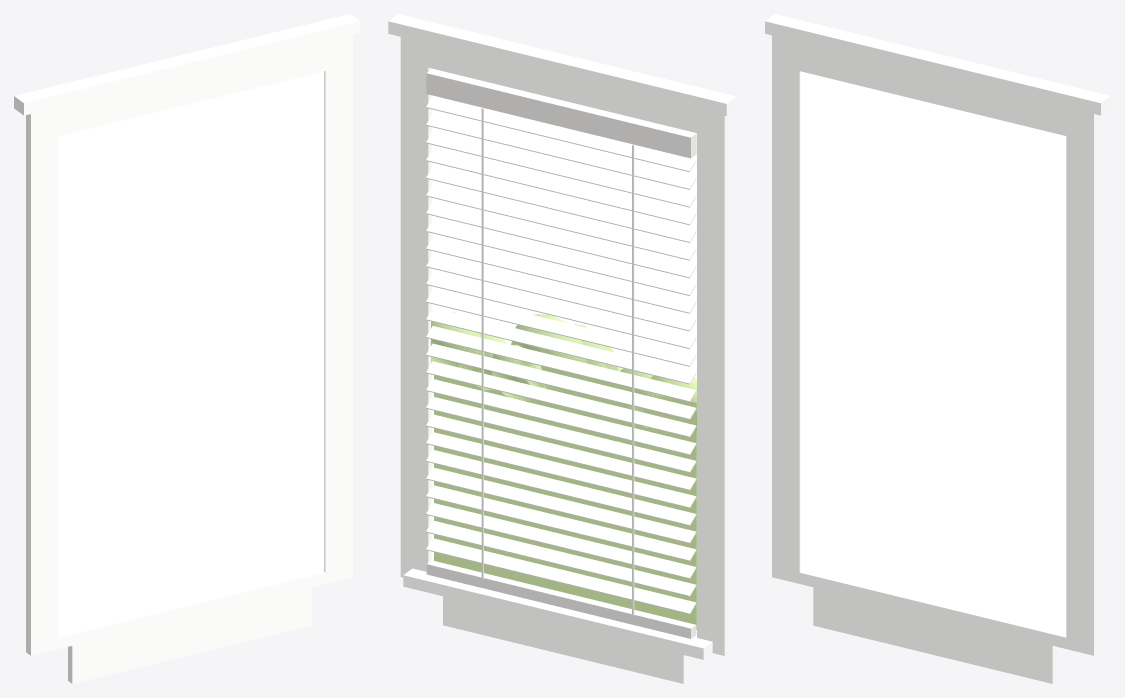
File: rios_window_east.glb
3 renders of one model, left to right at view 1: azimuth 30°, elevation 25°; view 2: azimuth 150°, elevation 25°; view 3: azimuth 330°, elevation 25°, orthographic.
Visible parts, largest first — view 1: root; view 2: root; view 3: root.
Part boxes in pixels (x1,y1,x2,y2): root: (14, 14, 359, 683); root: (388, 14, 736, 683); root: (765, 14, 1110, 683).
Bounding box in the file's own units: 1.04 × 1.75 × 0.0747.
